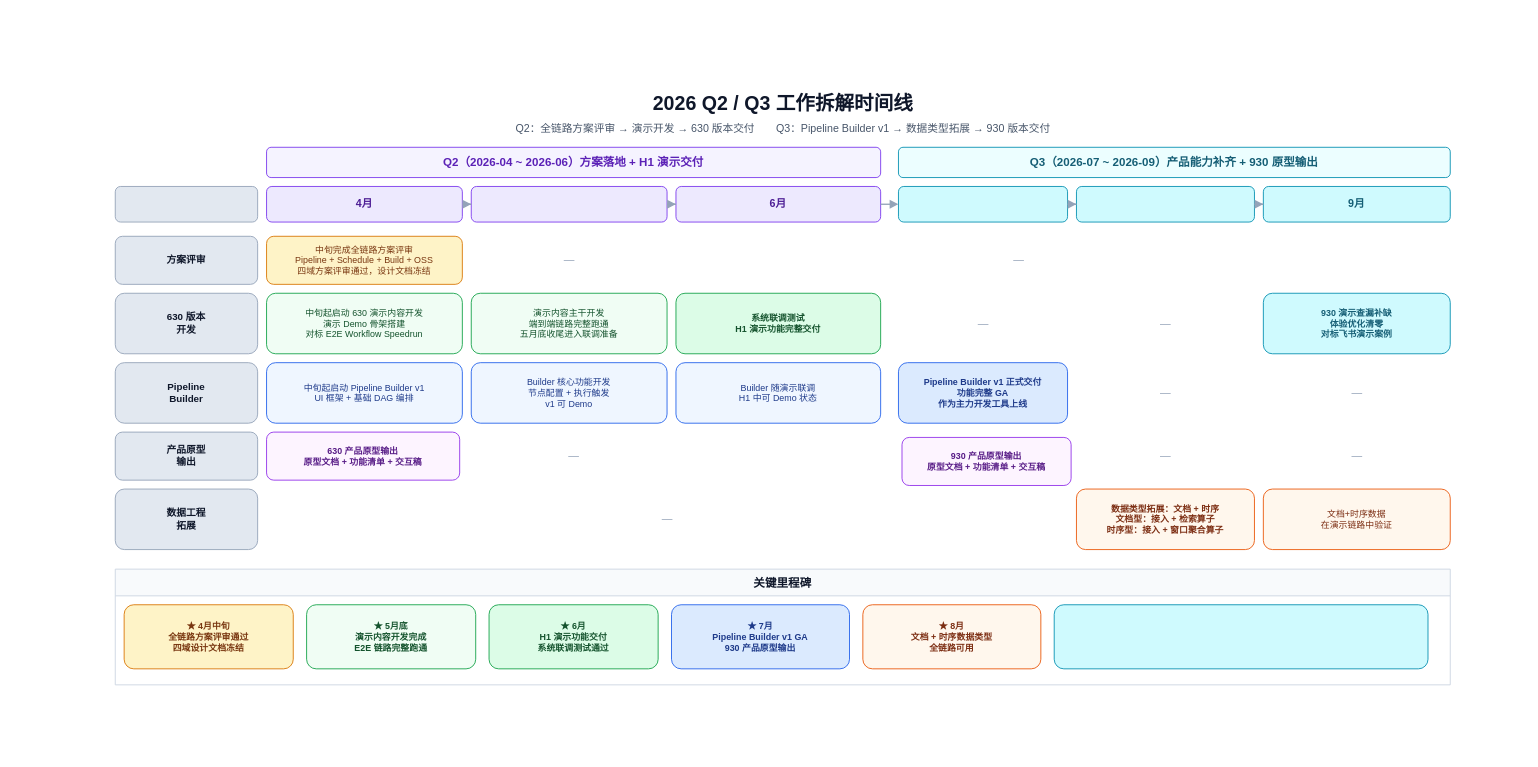
Image size: 1538x767. Some labels were removed from this diagram. Each missing label, with the centre of its shape:
"5月" goes at [568,204].
"7月" goes at [983,204].
"8月" goes at [1165,204].
"★ 9月 I1 完成验收 930 演示体验就绪" goes at [1240,636].
"工作线" goes at [186,204].
